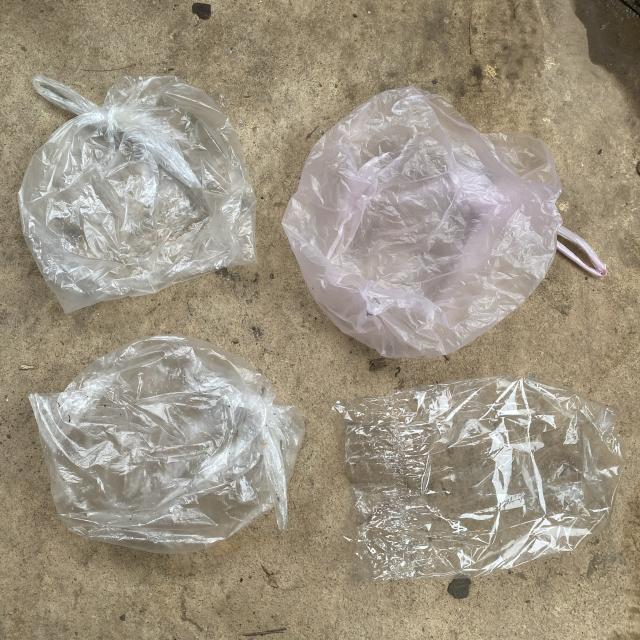Single-layer Plastic: (282, 86, 605, 358), (29, 335, 304, 554), (335, 376, 625, 580), (19, 75, 256, 312)
